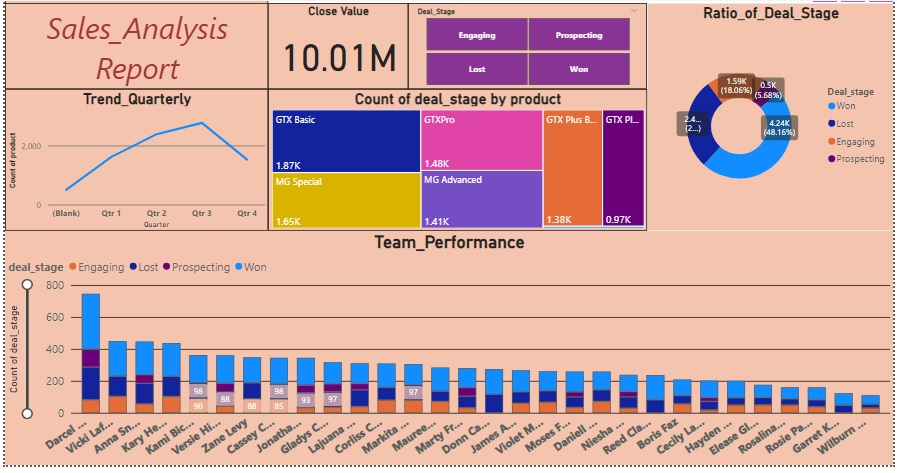

What the dashboard file says about the page in this screenshot:
{"tool":"powerbi","page":{"name":"Page 1","canvas":[1280,720],"ordinal":0},"visuals":[{"type":"columnChart","title":"Team_Performance","fields":{"Category":["sales_pipeline csv.sales_agent"],"Series":["sales_pipeline csv.deal_stage"],"Y":["CountNonNull(sales_pipeline csv.deal_stage)"]},"box":[0,383,1280.2,337],"z":0},{"type":"donutChart","title":"Ratio_of_Deal_Stage","fields":{"Category":["sales_pipeline csv.deal_stage"],"Y":["CountNonNull(sales_pipeline csv.product)"]},"box":[924.5,54.7,355.7,328.3],"z":1000},{"type":"lineChart","title":"Trend_Quarterly","fields":{"Category":["sales_pipeline csv.engage_date.Variation.Date Hierarchy.Quarter"],"Y":["CountNonNull(sales_pipeline csv.product)"]},"box":[0,178.6,378.7,204.5],"z":2000},{"type":"treemap","fields":{"Group":["sales_pipeline csv.product"],"Values":["CountNonNull(sales_pipeline csv.deal_stage)"]},"box":[378.7,178.6,545.8,204.5],"z":3000},{"type":"card","title":"Close Value","fields":{"Values":["Sum(sales_pipeline csv.close_value)"]},"box":[378.7,54.7,201.6,123.8],"z":4000},{"type":"slicer","fields":{"Values":["sales_pipeline csv.deal_stage"]},"box":[580.3,54.7,344.2,123.8],"z":5000},{"type":"textbox","box":[0,29,379,150],"z":6000},{"type":"textbox","box":[0,54.7,378.7,123.8],"z":7000}]}

Visuals, with their boxes in screenshot pixels (x1, y1, x2, y2):
"Team_Performance" columnChart: region(0, 233, 889, 467)
"Ratio_of_Deal_Stage" donutChart: region(642, 5, 889, 233)
"Trend_Quarterly" lineChart: region(0, 91, 263, 233)
treemap - sales_pipeline csv.product x CountNonNull(sales_pipeline csv.deal_stage): region(263, 91, 642, 233)
"Close Value" card: region(263, 5, 403, 91)
slicer - sales_pipeline csv.deal_stage: region(403, 5, 642, 91)
textbox: region(0, 0, 263, 92)
textbox: region(0, 5, 263, 91)
